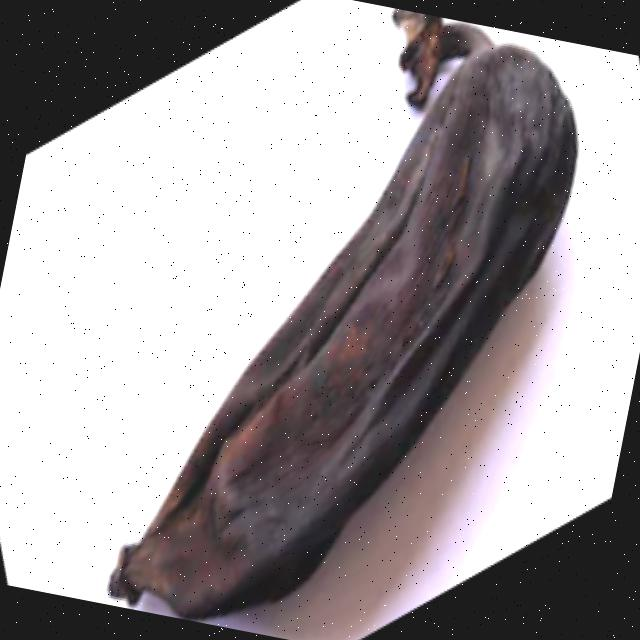Rotten: (70, 0, 625, 640)
